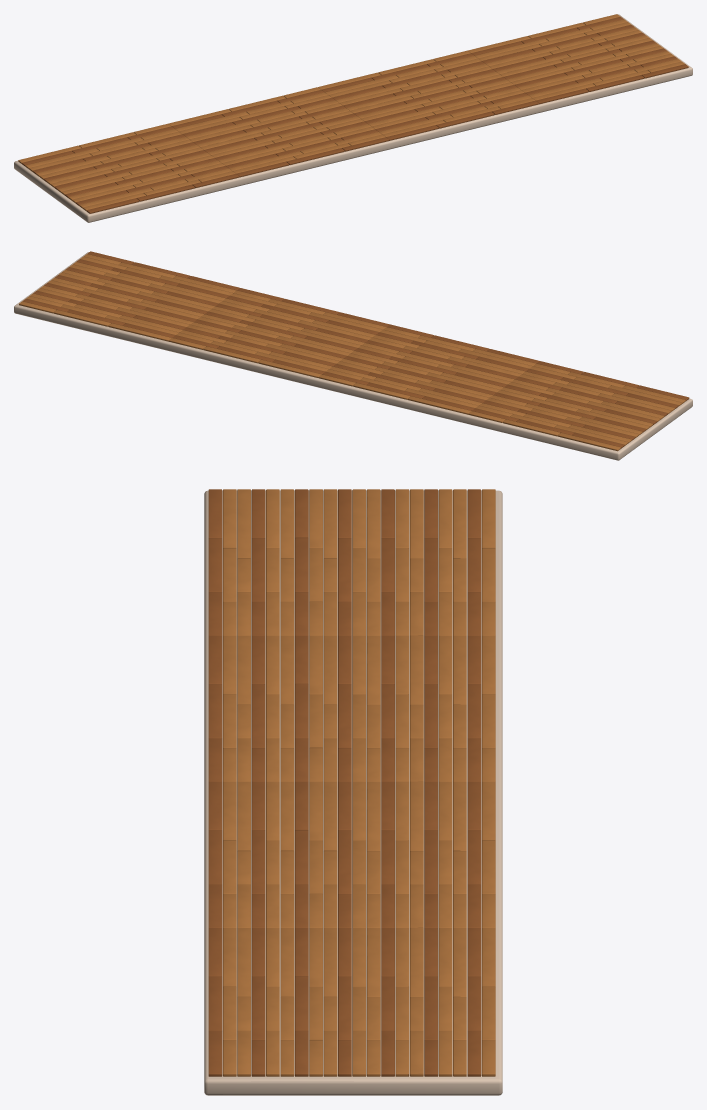
The model's file is CafeFloor.fbx.
The picture shows the model from 3 angles, top to bottom: view 1: azimuth 30°, elevation 25°; view 2: azimuth 150°, elevation 25°; view 3: azimuth 270°, elevation 25°; orthographic projection. The views are drawn at different scales.
Visible parts, largest first — view 1: 02_Individual_Wood_Floor_Planks_Mesh.004, 02_Individual_Wood_Floor_Planks_Mesh.002, 02_Individual_Wood_Floor_Planks_Mesh.001, 02_Individual_Wood_Floor_Planks_Mesh.003, 01_Diorama_Foundation_Mesh.001; view 2: 02_Individual_Wood_Floor_Planks_Mesh.004, 02_Individual_Wood_Floor_Planks_Mesh.001, 02_Individual_Wood_Floor_Planks_Mesh.002, 02_Individual_Wood_Floor_Planks_Mesh.003, 01_Diorama_Foundation_Mesh.001; view 3: 02_Individual_Wood_Floor_Planks_Mesh.001, 02_Individual_Wood_Floor_Planks_Mesh.004, 02_Individual_Wood_Floor_Planks_Mesh.003, 02_Individual_Wood_Floor_Planks_Mesh.002, 01_Diorama_Foundation_Mesh.001.
Part boxes in pixels (box(x1,y1,x2,y2)): 02_Individual_Wood_Floor_Planks_Mesh.004: box(18, 123, 239, 213); 02_Individual_Wood_Floor_Planks_Mesh.002: box(318, 50, 538, 140); 02_Individual_Wood_Floor_Planks_Mesh.001: box(467, 14, 688, 104); 02_Individual_Wood_Floor_Planks_Mesh.003: box(168, 87, 389, 177); 01_Diorama_Foundation_Mesh.001: box(14, 14, 692, 222); 02_Individual_Wood_Floor_Planks_Mesh.004: box(468, 361, 689, 451); 02_Individual_Wood_Floor_Planks_Mesh.001: box(19, 251, 239, 341); 02_Individual_Wood_Floor_Planks_Mesh.002: box(168, 288, 389, 377); 02_Individual_Wood_Floor_Planks_Mesh.003: box(318, 324, 539, 414); 01_Diorama_Foundation_Mesh.001: box(14, 252, 692, 460); 02_Individual_Wood_Floor_Planks_Mesh.001: box(208, 928, 495, 1076); 02_Individual_Wood_Floor_Planks_Mesh.004: box(208, 489, 495, 635); 02_Individual_Wood_Floor_Planks_Mesh.003: box(208, 635, 495, 781); 02_Individual_Wood_Floor_Planks_Mesh.002: box(208, 781, 495, 928); 01_Diorama_Foundation_Mesh.001: box(204, 490, 502, 1095).
Bounding box in the file's own units: 2178 × 33.45 × 465.
